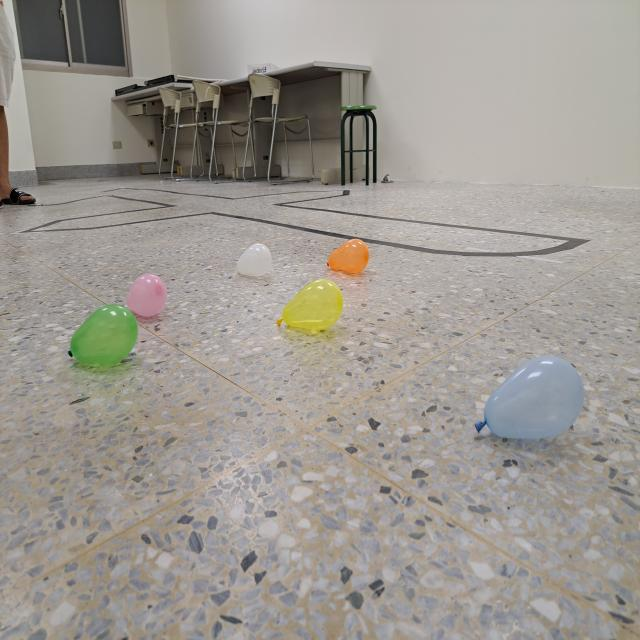other: (473, 353, 584, 445), (65, 304, 138, 370), (277, 278, 344, 336), (124, 272, 168, 319), (327, 238, 369, 276), (232, 243, 274, 277)
